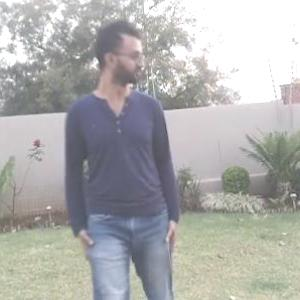follow: (66, 18, 190, 287)
